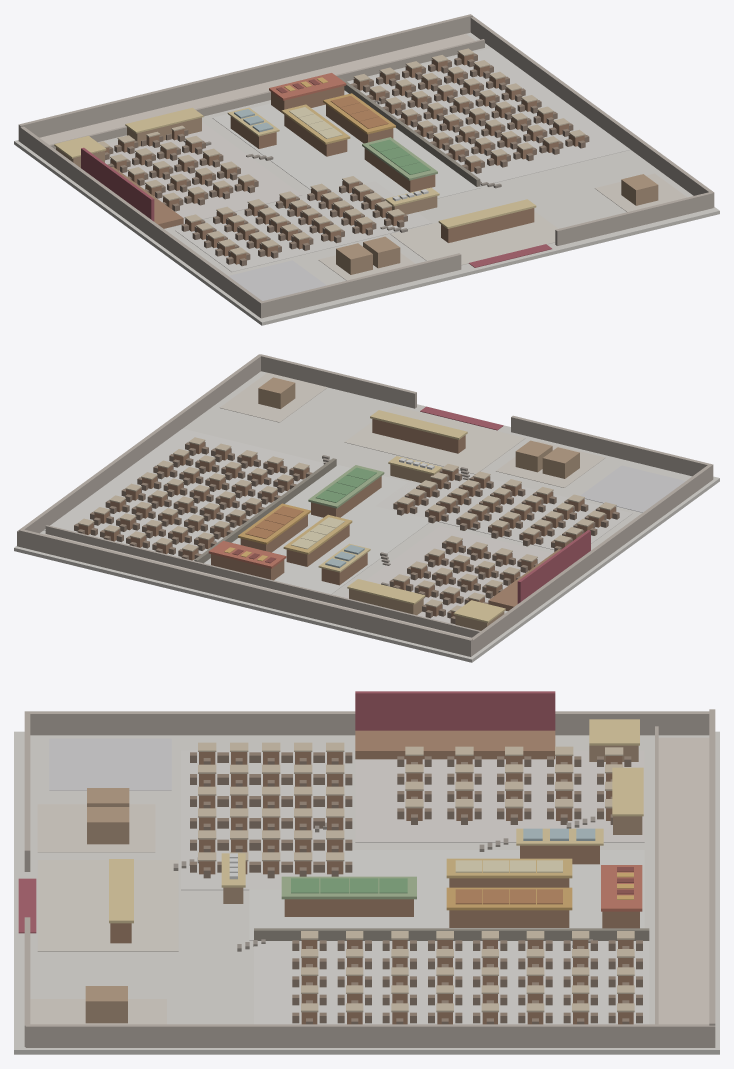
File: modelo_augusta_conceitual.glb
3 renders of one model, top to bottom at view 1: azimuth 30°, elevation 25°; view 2: azimuth 150°, elevation 25°; view 3: azimuth 270°, elevation 25°, orthographic. The views are drawn at different scales.
Visible parts, largest first — view 1: 000_Piso, 622_Área_superior, 003_Muro_fundos, 625_Corredor_do_buffet, 623_Salão_inferior, 001_Muro_esquerdo, 624_Salão_principal, 002_Muro_direito, 627_Fundos, 626_Bar_/_espera, 004_Muro_frente_esquerdo, 005_Muro_frente_direito (+25 smaller); view 2: 000_Piso, 003_Muro_fundos, 622_Área_superior, 625_Corredor_do_buffet, 001_Muro_esquerdo, 002_Muro_direito, 626_Bar_/_espera, 623_Salão_inferior, 007_Área_fundos, 624_Salão_principal, 004_Muro_frente_esquerdo, 628_Banheiros (+25 smaller); view 3: 000_Piso, 622_Área_superior, 002_Muro_direito, 627_Fundos, 623_Salão_inferior, 001_Muro_esquerdo, 625_Corredor_do_buffet, 626_Bar_/_espera, 009_Cortina_palco, 624_Salão_principal, 628_Banheiros, 008_Palco (+25 smaller).
Part boxes in pixels (box(x1,y1,x2,y2)): 000_Piso: box(14, 32, 719, 325); 622_Área_superior: box(349, 48, 630, 186); 003_Muro_fundos: box(18, 14, 472, 141); 625_Corredor_do_buffet: box(212, 90, 480, 198); 623_Salão_inferior: box(105, 122, 301, 227); 001_Muro_esquerdo: box(18, 126, 263, 317); 624_Salão_principal: box(175, 181, 431, 271); 002_Muro_direito: box(470, 16, 714, 207); 627_Fundos: box(39, 33, 474, 144); 626_Bar_/_espera: box(390, 211, 558, 265); 004_Muro_frente_esquerdo: box(259, 253, 461, 318); 005_Muro_frente_direito: box(555, 192, 713, 245); 000_Piso: box(14, 371, 719, 662); 003_Muro_fundos: box(18, 528, 472, 656); 622_Área_superior: box(43, 428, 323, 560); 625_Corredor_do_buffet: box(204, 464, 449, 594); 001_Muro_esquerdo: box(467, 464, 712, 656); 002_Muro_direito: box(17, 354, 261, 546); 626_Bar_/_espera: box(344, 406, 525, 474); 623_Salão_inferior: box(343, 526, 552, 624); 007_Área_fundos: box(45, 525, 480, 637); 624_Salão_principal: box(375, 464, 632, 549); 004_Muro_frente_esquerdo: box(511, 415, 713, 480); 628_Banheiros: box(580, 465, 685, 512); 000_Piso: box(14, 731, 719, 1054); 622_Área_superior: box(254, 941, 649, 1024); 002_Muro_direito: box(25, 1024, 715, 1047); 627_Fundos: box(658, 737, 709, 1024); 623_Salão_inferior: box(355, 750, 644, 842); 001_Muro_esquerdo: box(25, 711, 709, 735); 625_Corredor_do_buffet: box(249, 850, 644, 940); 626_Bar_/_espera: box(37, 860, 178, 951); 009_Cortina_palco: box(355, 691, 555, 730); 624_Salão_principal: box(181, 750, 343, 890); 628_Banheiros: box(49, 738, 171, 790); 008_Palco: box(355, 730, 555, 759).
Bounding box in the file's own units: 32 × 2.41 × 30.
